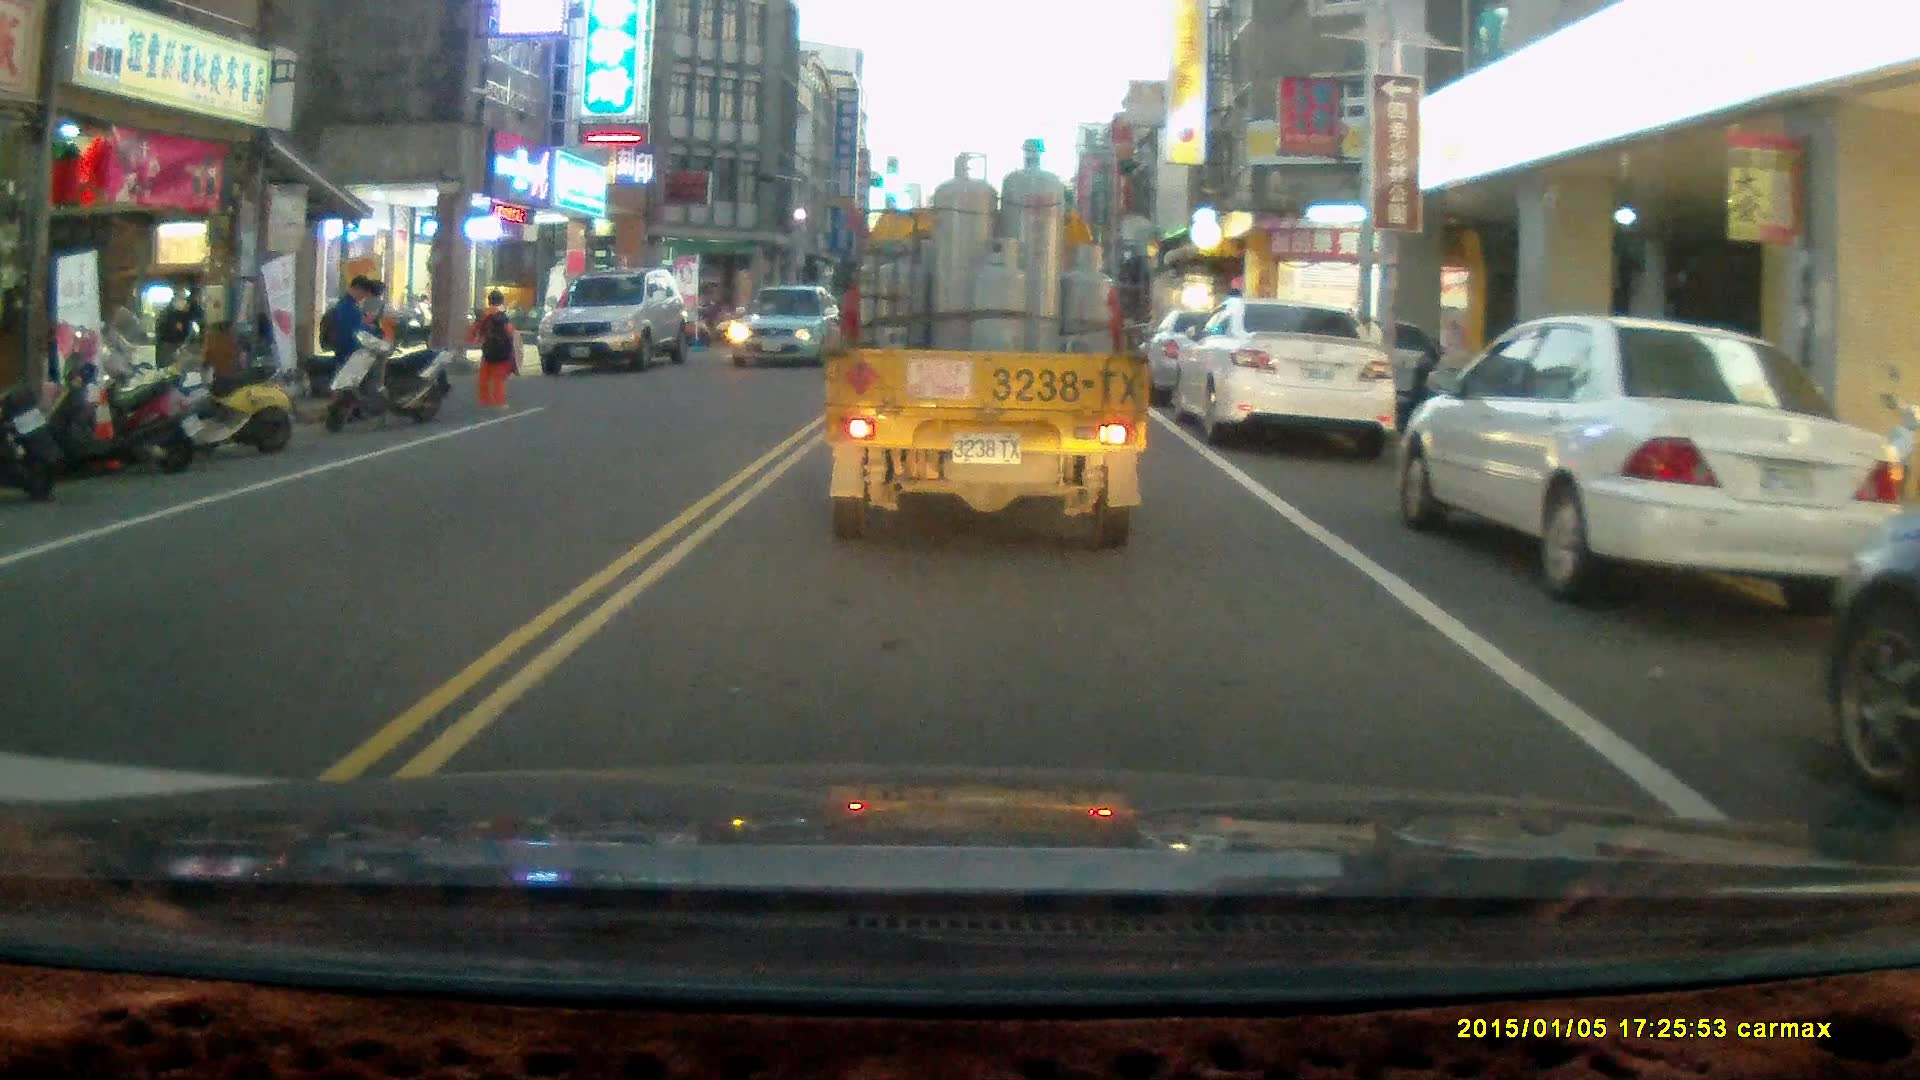pedestrian: (308, 275, 370, 424), (152, 283, 201, 431), (466, 289, 518, 408)
vehicle: (1394, 313, 1914, 611), (820, 146, 1155, 551), (1172, 297, 1404, 456), (536, 270, 694, 376), (727, 284, 845, 369)
